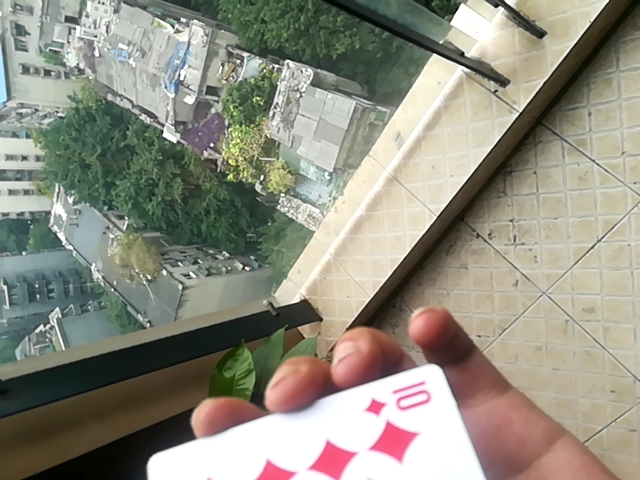fk 10: (110, 365, 515, 479)
